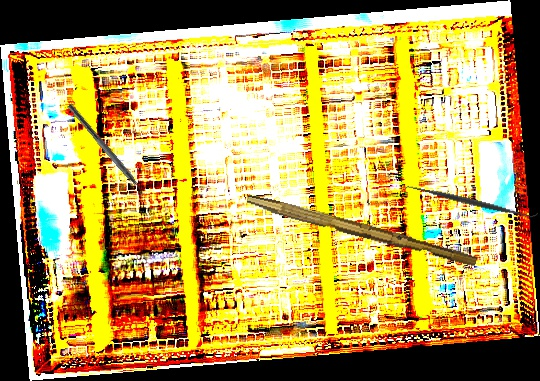Chopper: (60, 102, 153, 206)
Scalpel Handle: (244, 193, 479, 269)
Spatula Surgical: (404, 177, 539, 226)
